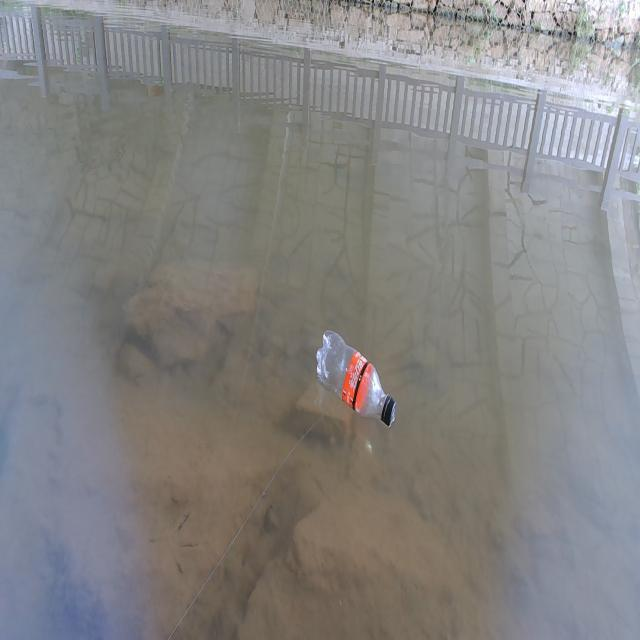bottle: (298, 297, 422, 452)
